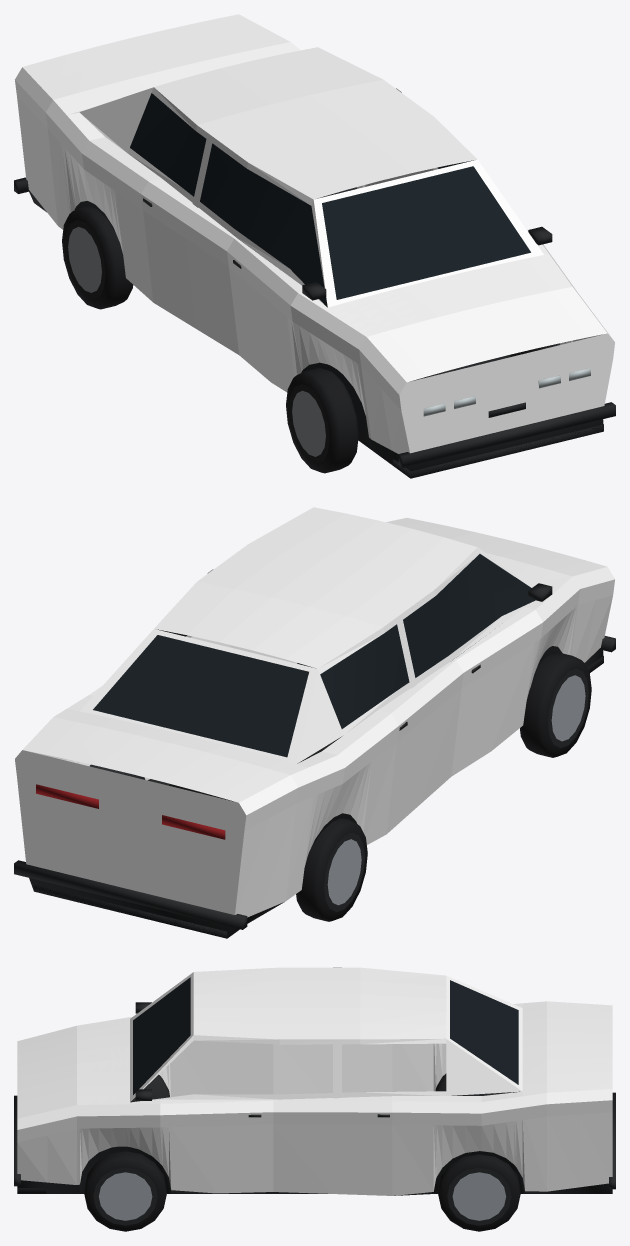
File: volnar_nimbus.glb
3 views of the same model, one above another, from view 1: azimuth 30°, elevation 25°; view 2: azimuth 150°, elevation 25°; view 3: azimuth 270°, elevation 25° (orthographic). The views are drawn at different scales.
Parts seen in each view (by area): view 1: Body_Paint, Body_Details, Mount_FrontLeft_Wheel_Details, Mount_RearLeft_Wheel_Details; view 2: Body_Paint, Body_Details, Mount_FrontLeft_Wheel_Details, Mount_RearLeft_Wheel_Details; view 3: Body_Paint, Body_Details, Mount_FrontRight_Wheel_Details, Mount_RearRight_Wheel_Details.
Part boxes in pixels (x1=…): Body_Paint: x1=15, y1=14, x2=614, y2=453; Body_Details: x1=14, y1=93, x2=615, y2=478; Mount_FrontLeft_Wheel_Details: x1=286, y1=367, x2=358, y2=473; Mount_RearLeft_Wheel_Details: x1=62, y1=205, x2=133, y2=309; Body_Paint: x1=15, y1=507, x2=614, y2=917; Body_Details: x1=14, y1=554, x2=615, y2=938; Mount_FrontLeft_Wheel_Details: x1=520, y1=652, x2=591, y2=757; Mount_RearLeft_Wheel_Details: x1=296, y1=818, x2=367, y2=921; Body_Paint: x1=17, y1=967, x2=612, y2=1195; Body_Details: x1=14, y1=977, x2=615, y2=1195; Mount_FrontRight_Wheel_Details: x1=84, y1=1151, x2=166, y2=1231; Mount_RearRight_Wheel_Details: x1=438, y1=1154, x2=520, y2=1231.
Bounding box in the file's own units: 1.92 × 1.61 × 4.82.
2 materials, 1 textured.
